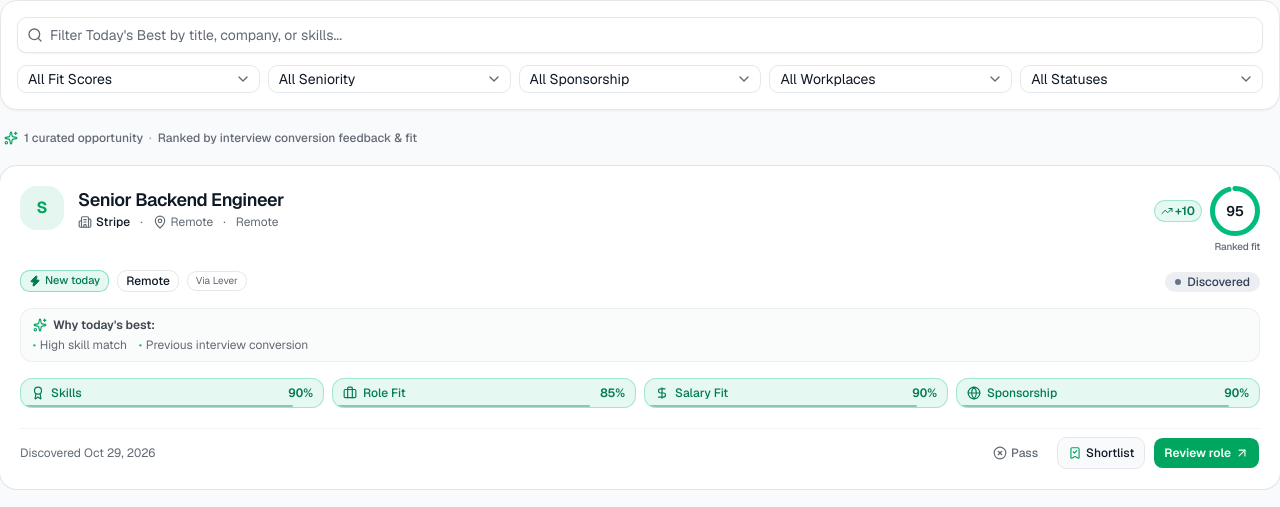
Scenario: focuses the count when the last card is passed
Click the button "Pass": coordinates (1016, 453) [982, 437, 1049, 469]
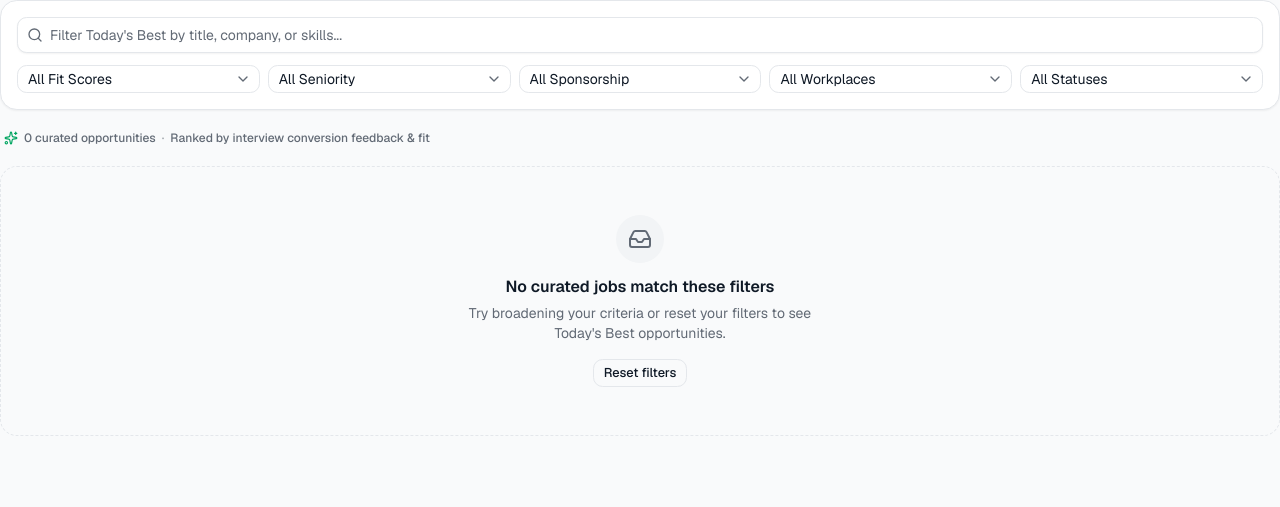
Expected: the link "Senior Backend Engineer" is gone
